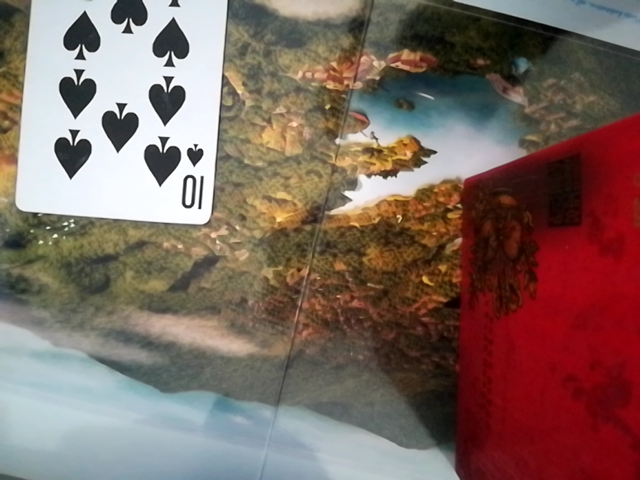ht 10: (10, 0, 229, 231)
